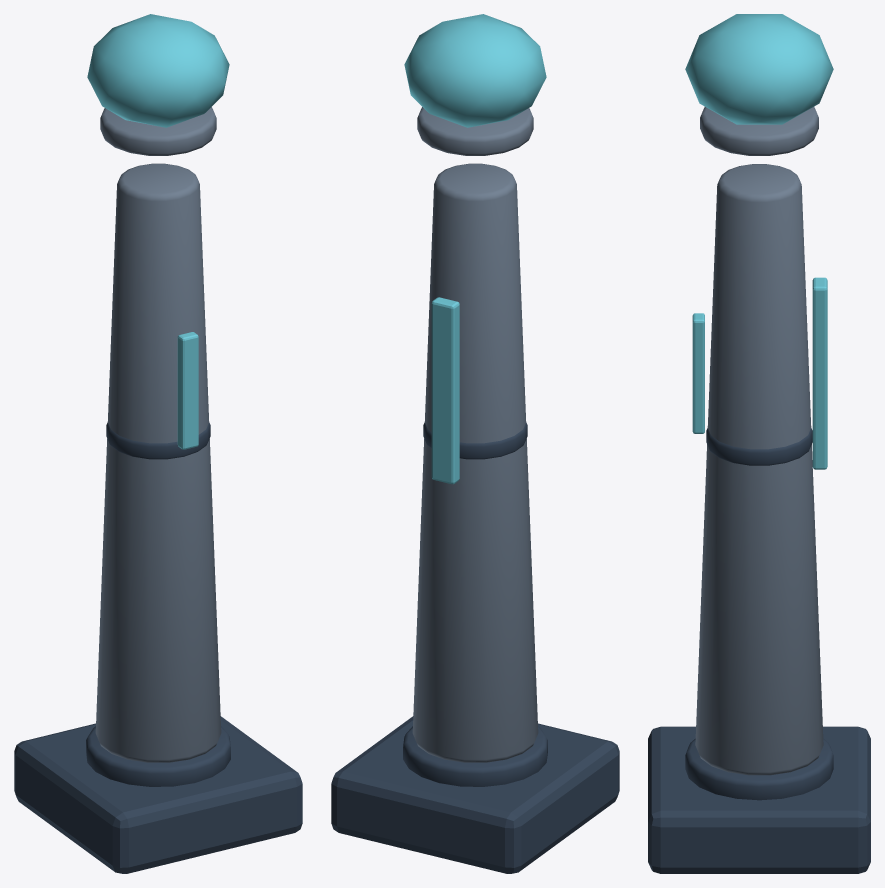
File: Pylon_S.fbx
3 views of the same model, side by side, from view 1: azimuth 30°, elevation 25°; view 2: azimuth 150°, elevation 25°; view 3: azimuth 270°, elevation 25° (orthographic). The views are drawn at different scales.
Parts seen in each view (by area): view 1: Pylon_S; view 2: Pylon_S; view 3: Pylon_S.
Part boxes in pixels (box(x1,y1,x2,y2)): Pylon_S: box(14, 14, 302, 873); Pylon_S: box(331, 14, 619, 873); Pylon_S: box(648, 14, 870, 873).
Bounding box in the file's own units: 0.9 × 3.62 × 0.9.
